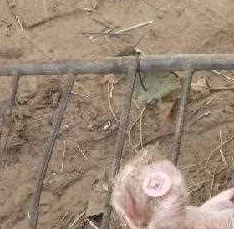text: (130, 159, 181, 209)
